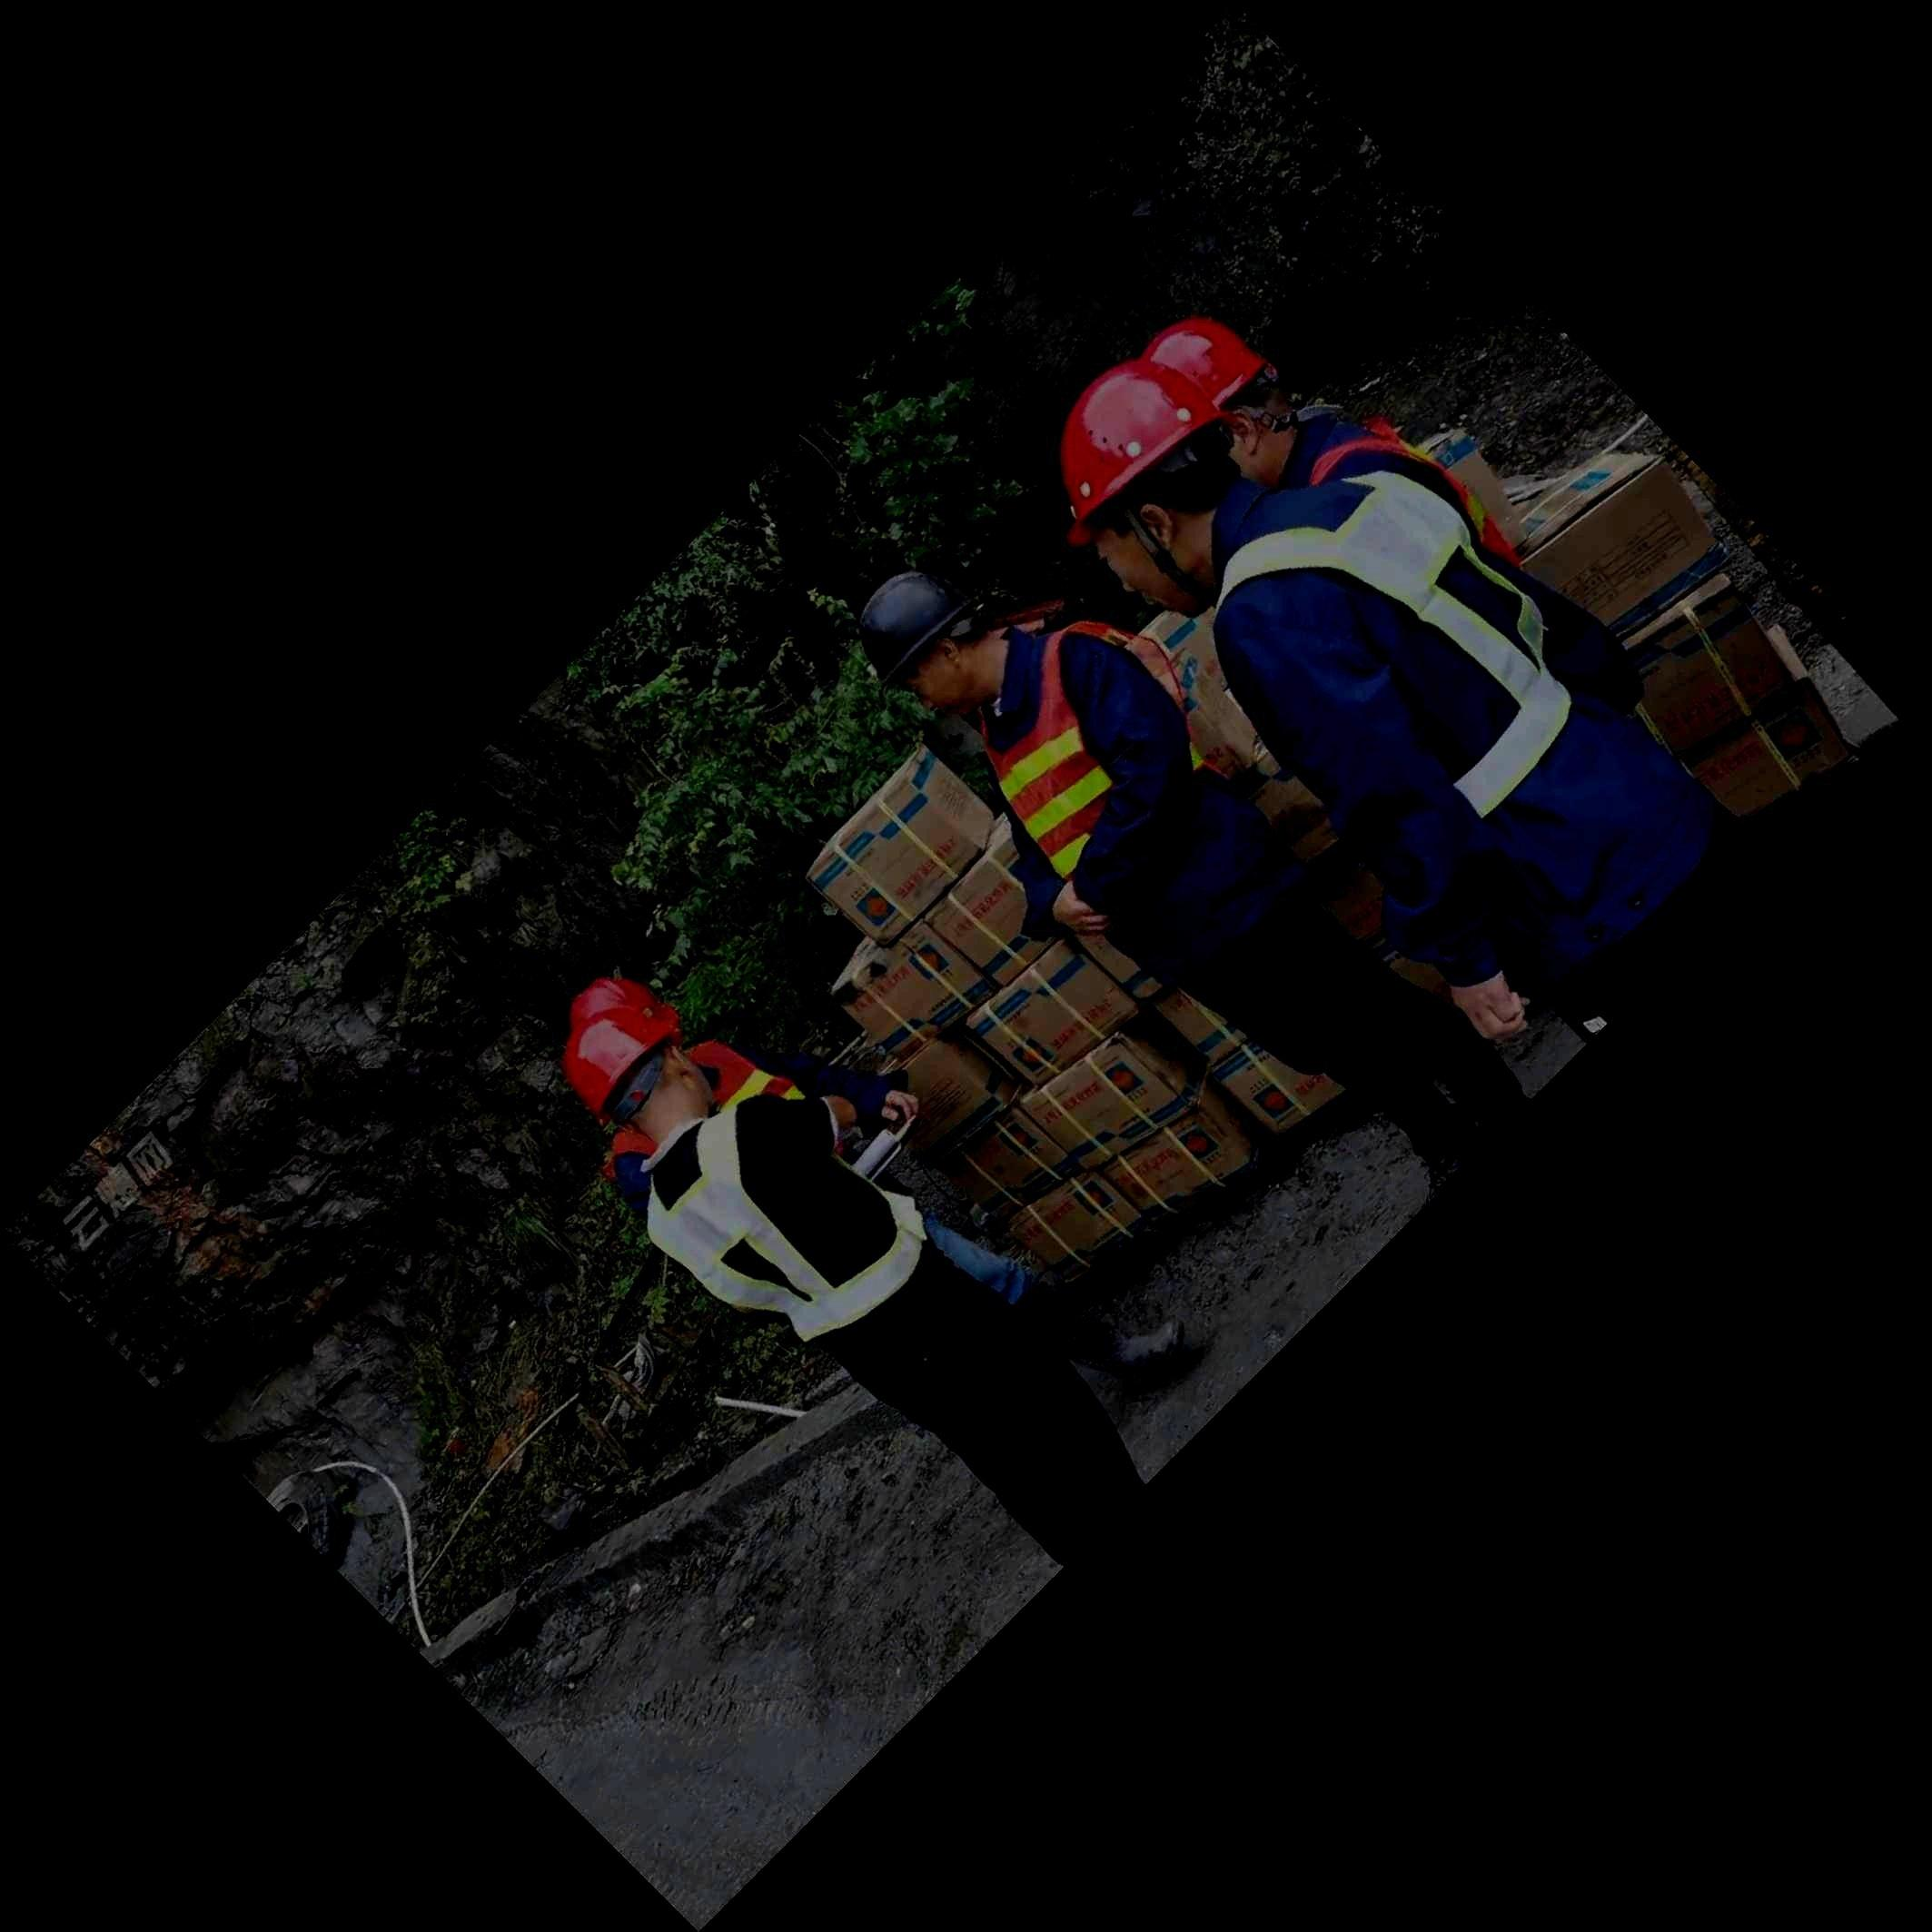helmet: (1060, 357, 1242, 617), (1138, 317, 1299, 488), (561, 1005, 713, 1136), (858, 570, 991, 717), (570, 975, 681, 1047)
